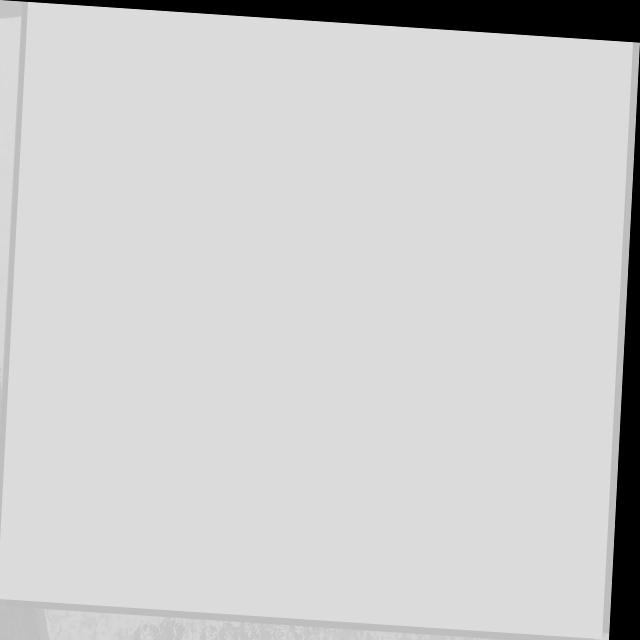qr_code: (4, 1, 633, 630)
